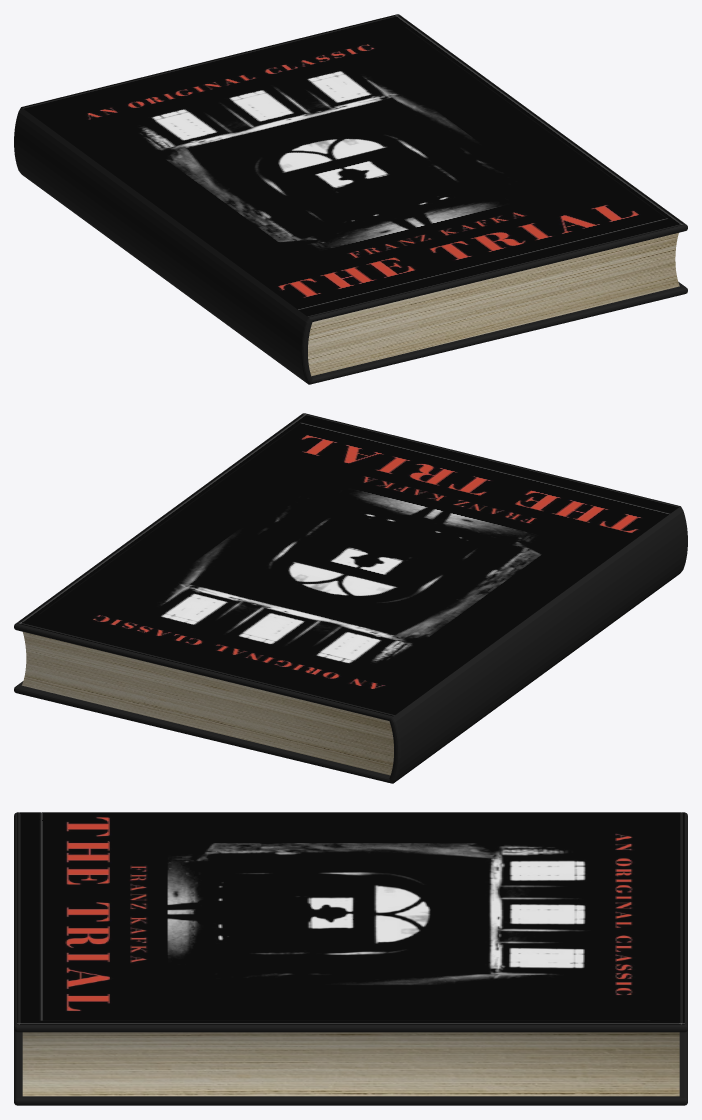
File: TheTrailBook.fbx
3 views of the same model, one above another, from view 1: azimuth 30°, elevation 25°; view 2: azimuth 150°, elevation 25°; view 3: azimuth 270°, elevation 25° (orthographic). The views are drawn at different scales.
Visible parts, largest first — view 1: FrontCover, Cover, Paper; view 2: FrontCover, Cover, Paper; view 3: FrontCover, Paper, Cover.
Boxes of the visible parts, box(x1,y1,x2,y2) form: FrontCover: box(22, 14, 684, 317); Cover: box(14, 14, 687, 384); Paper: box(308, 233, 679, 376); FrontCover: box(17, 413, 679, 716); Cover: box(14, 413, 687, 783); Paper: box(22, 632, 393, 775); FrontCover: box(17, 812, 684, 1024); Paper: box(22, 1032, 679, 1096); Cover: box(14, 812, 687, 1105).
Bounding box in the file's own units: 62.6 × 10.74 × 81.36.
Materials: 3 (2 with a texture image).
